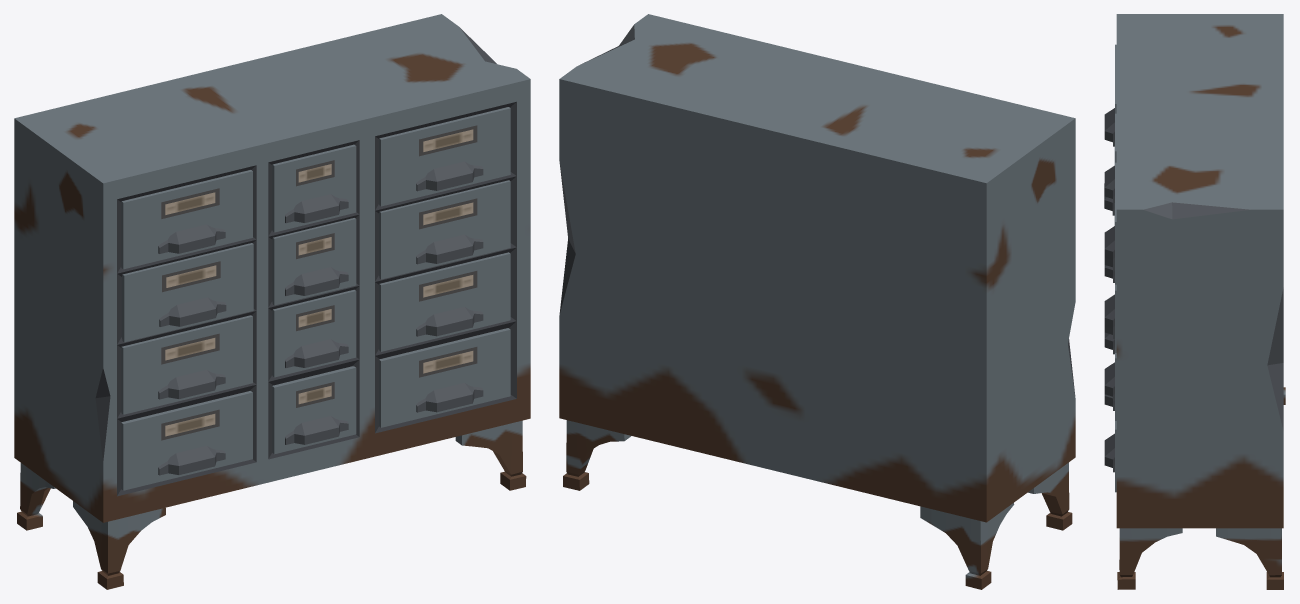
The model's file is SM_Prop_Drawers_01.fbx.
3 views of the same model, side by side, from view 1: azimuth 30°, elevation 25°; view 2: azimuth 150°, elevation 25°; view 3: azimuth 270°, elevation 25° (orthographic). The views are drawn at different scales.
Visible parts, largest first — view 1: SM_Prop_Drawers_01; view 2: SM_Prop_Drawers_01; view 3: SM_Prop_Drawers_01.
Boxes of the visible parts, left/top/right/bottom form: SM_Prop_Drawers_01: left=14, top=14, right=530, bottom=589; SM_Prop_Drawers_01: left=559, top=14, right=1075, bottom=589; SM_Prop_Drawers_01: left=1104, top=14, right=1285, bottom=589.
Bounding box in the file's own units: 131 × 120 × 51.5.
